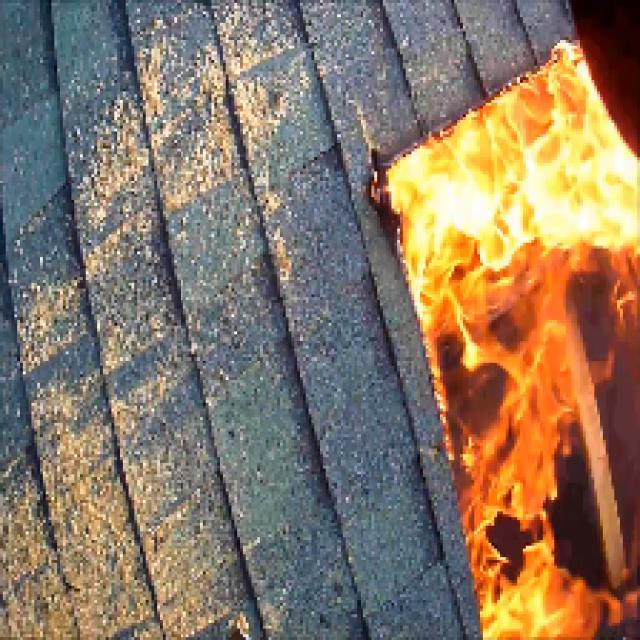fire: (416, 117, 623, 632)
